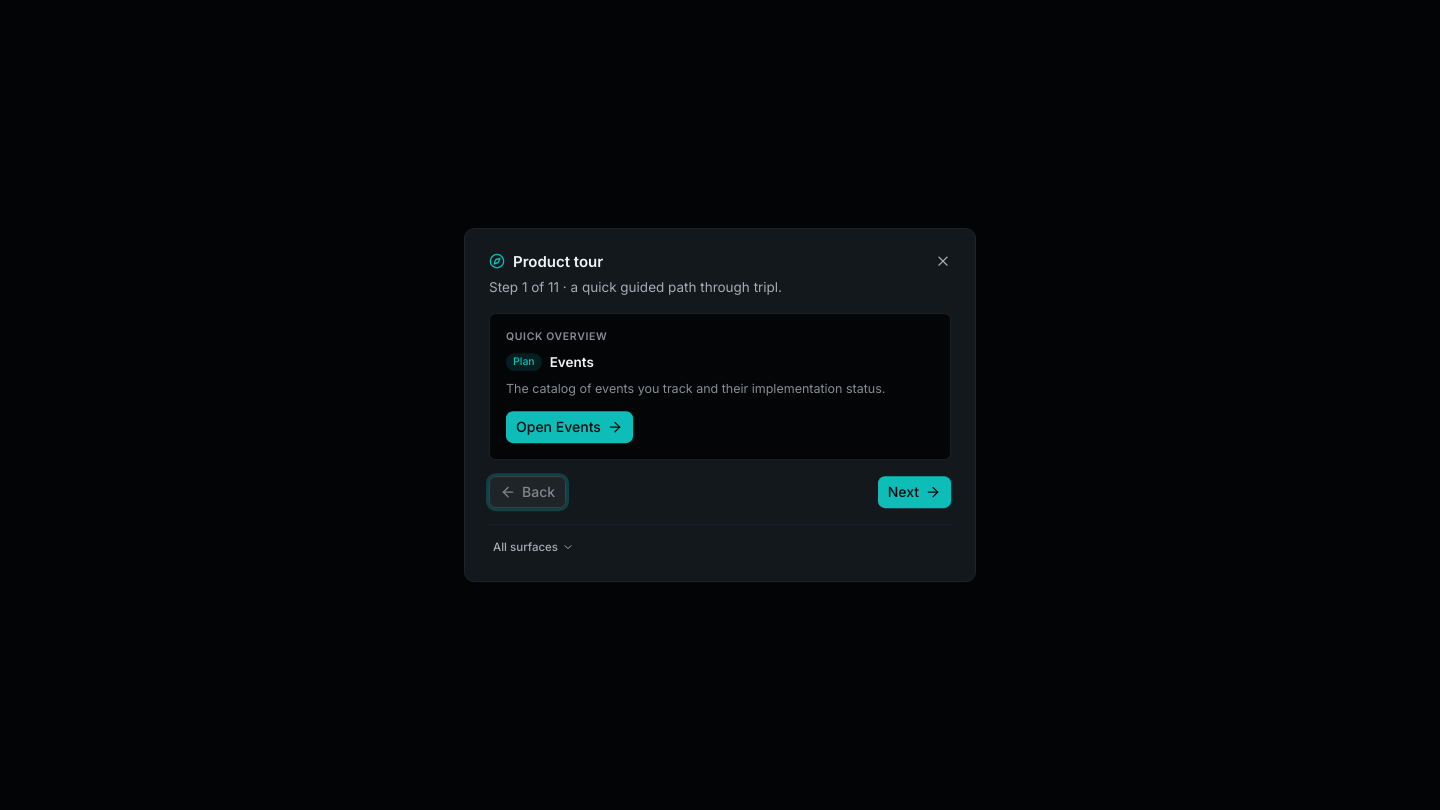
Scenario: demo state when storage throws › opens the tour on the first step and still moves through it
Expected: the text "Step 1 of 11 · a quick guided path through tripl." is shown, [489, 279, 782, 295]
Click the button "Next" at point(914, 492), box [878, 476, 951, 508]
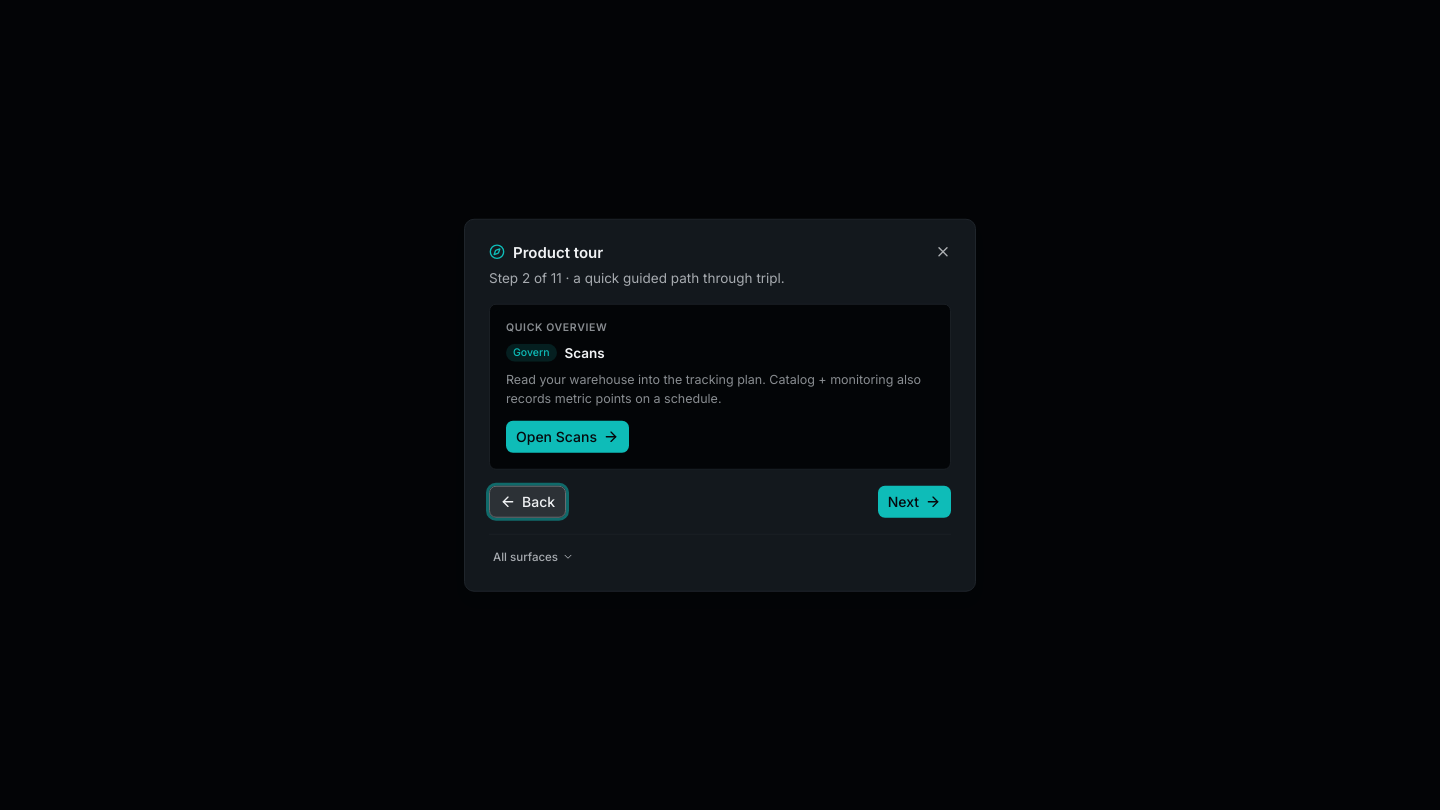
Now the text "Step 2 of 11 · a quick guided path through tripl." is shown, box [489, 270, 785, 286]
